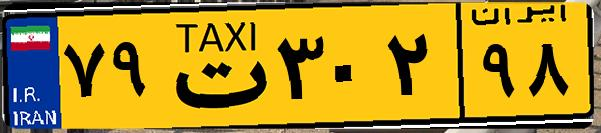0: (330, 28, 385, 110)
2: (385, 28, 445, 110)
3: (270, 28, 330, 110)
7: (57, 26, 110, 100)
8: (525, 38, 570, 115)
9: (475, 38, 525, 113), (110, 28, 158, 98)
ت: (158, 12, 270, 120)
